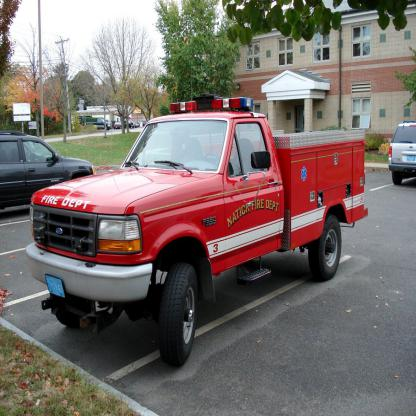Car: (0, 130, 97, 213), (388, 120, 415, 186), (113, 121, 121, 130), (128, 120, 134, 129)
Truck: (25, 67, 368, 367)
